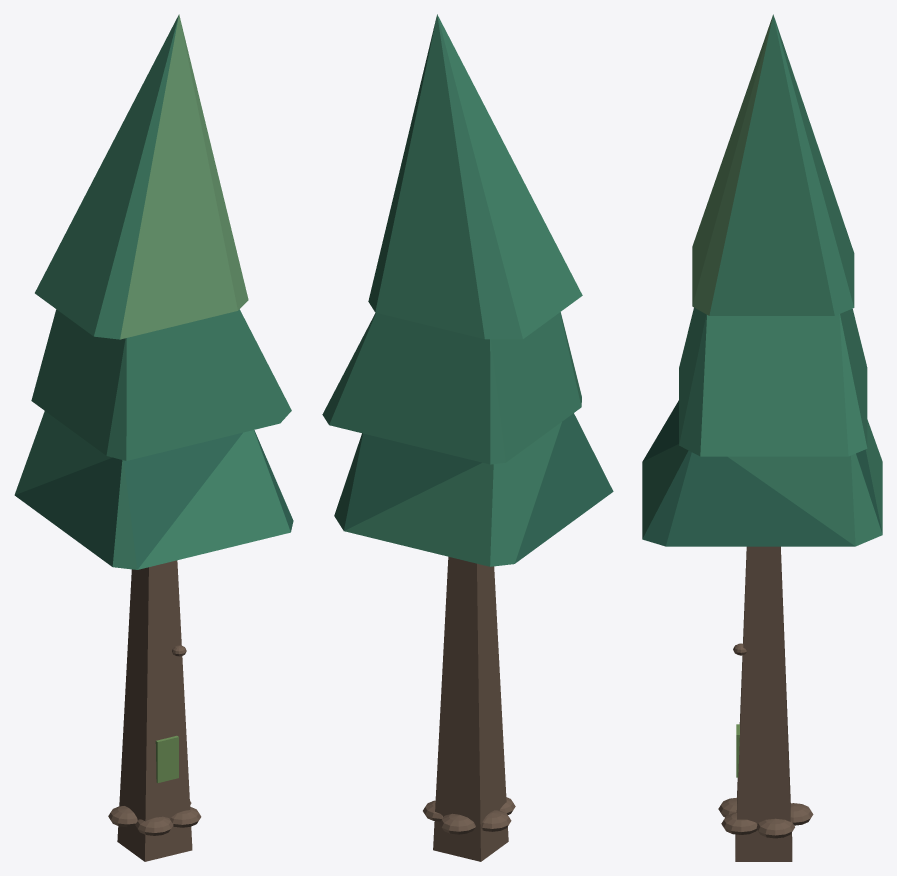
File: tree_pineTallA.glb
3 renders of one model, left to right at view 1: azimuth 30°, elevation 25°; view 2: azimuth 150°, elevation 25°; view 3: azimuth 270°, elevation 25°, orthographic. The views are drawn at different scales.
Parts seen in each view (by area): view 1: tree_pineTallA; view 2: tree_pineTallA; view 3: tree_pineTallA.
Boxes of the visible parts, x1=… form: tree_pineTallA: x1=14, y1=14, x2=293, y2=861; tree_pineTallA: x1=322, y1=14, x2=613, y2=861; tree_pineTallA: x1=642, y1=14, x2=882, y2=861.
Bounding box in the file's own units: 0.3863 × 1.53 × 0.392.
